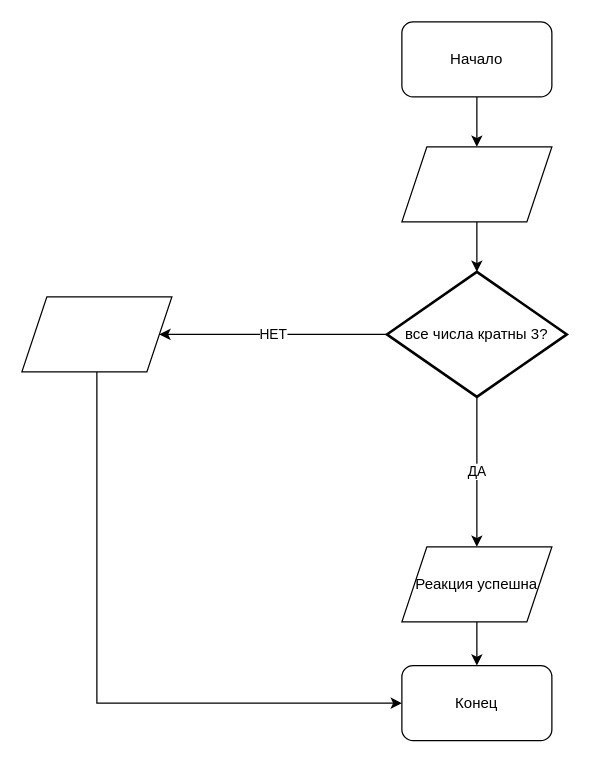
This 590x763 diagram has some shape labels left out. Each missing label, with the centre of its shape:
"a,b,c" belongs at (476,184).
"Реакция не успешна" belongs at (96,334).
